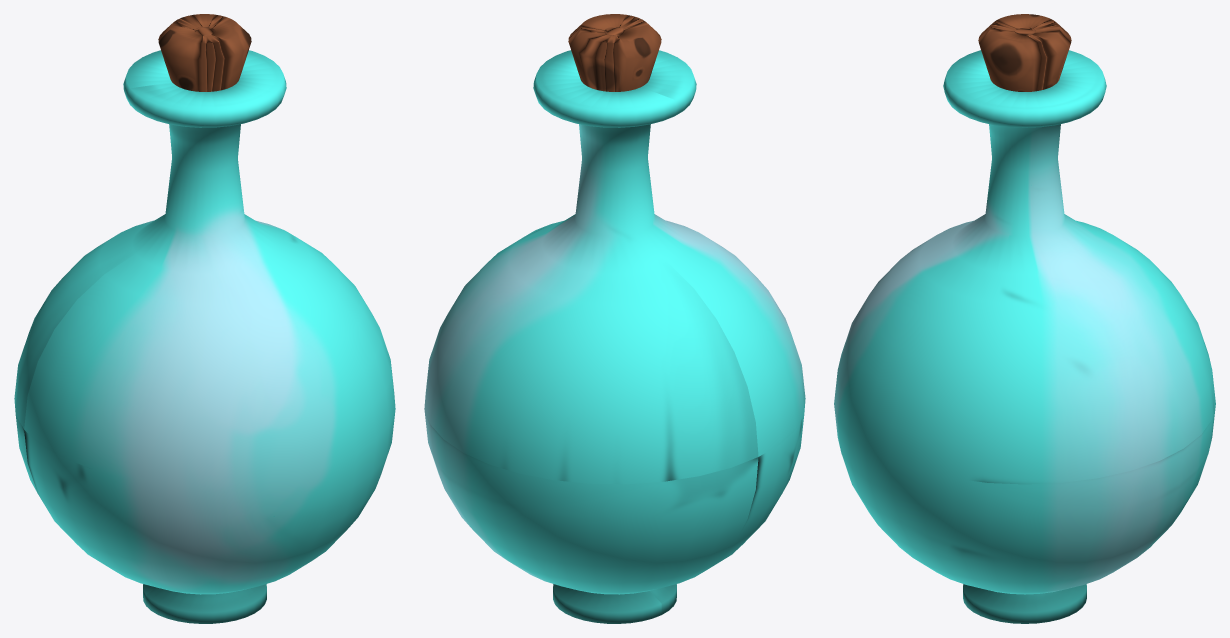
File: potion.glb
3 views of the same model, side by side, from view 1: azimuth 30°, elevation 25°; view 2: azimuth 150°, elevation 25°; view 3: azimuth 270°, elevation 25° (orthographic).
Parts seen in each view (by area): view 1: Potion; view 2: Potion; view 3: Potion.
Boxes of the visible parts, x1,y1,x2,y2 form: Potion: (14, 14, 395, 623); Potion: (424, 14, 805, 623); Potion: (834, 14, 1215, 623).
Bounding box in the file's own units: 0.6098 × 1.01 × 0.6098.
3 materials, 3 textured.
